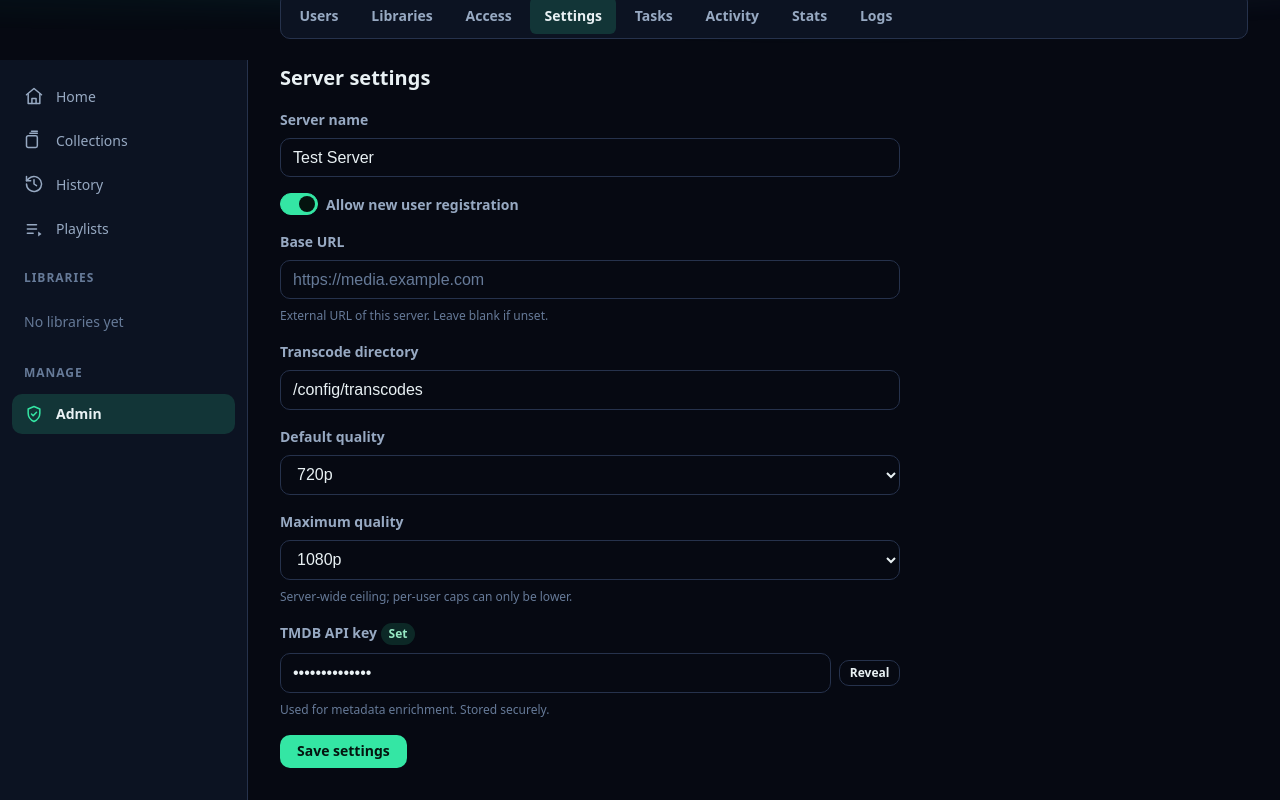
Test: AdminSettingsPage › masks the TMDB key and reveals it on toggle
(page scrolled)
Expected: the password field labelled "TMDB API key Set" holds "secret-key-123", [280,653,831,692]
Expected: the text "Set" is shown, [380,622,415,645]
What coordinates should you click on to do the following:
click the button "Reveal"
I would click on:
 (870, 673)
Its box is [839,660,900,686].
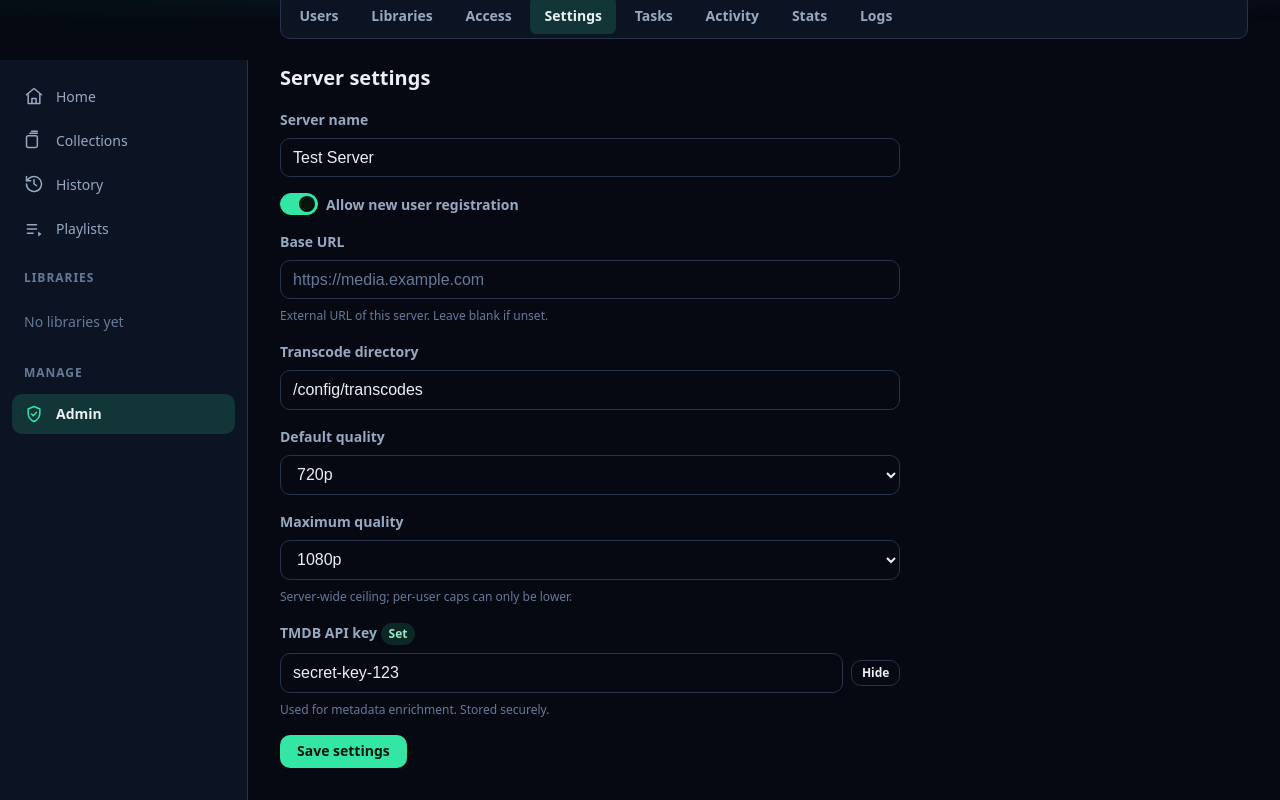
Expected: the field labelled "TMDB API key Set" shows its text, [280,653,843,692]
